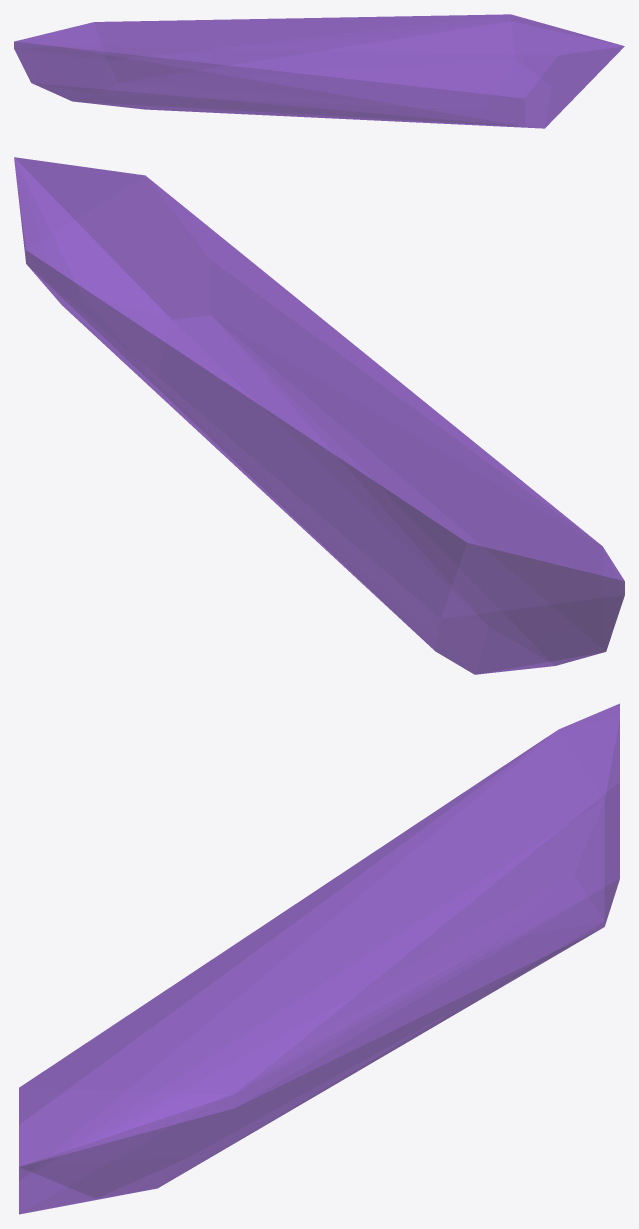
3 renders of one model, top to bottom at view 1: azimuth 30°, elevation 25°; view 2: azimuth 150°, elevation 25°; view 3: azimuth 270°, elevation 25°, orthographic. The views are drawn at different scales.
Parts seen in each view (by area): view 1: Shape_IndexedFaceSet.022_Shape_IndexedFaceSet.5913; view 2: Shape_IndexedFaceSet.022_Shape_IndexedFaceSet.5913; view 3: Shape_IndexedFaceSet.022_Shape_IndexedFaceSet.5913.
Part boxes in pixels (x1,y1,x2,y2): Shape_IndexedFaceSet.022_Shape_IndexedFaceSet.5913: (14,14,624,128); Shape_IndexedFaceSet.022_Shape_IndexedFaceSet.5913: (14,157,624,674); Shape_IndexedFaceSet.022_Shape_IndexedFaceSet.5913: (19,703,619,1214).
Bounding box in the file's own units: 0.1359 × 0.0197 × 0.0768.
